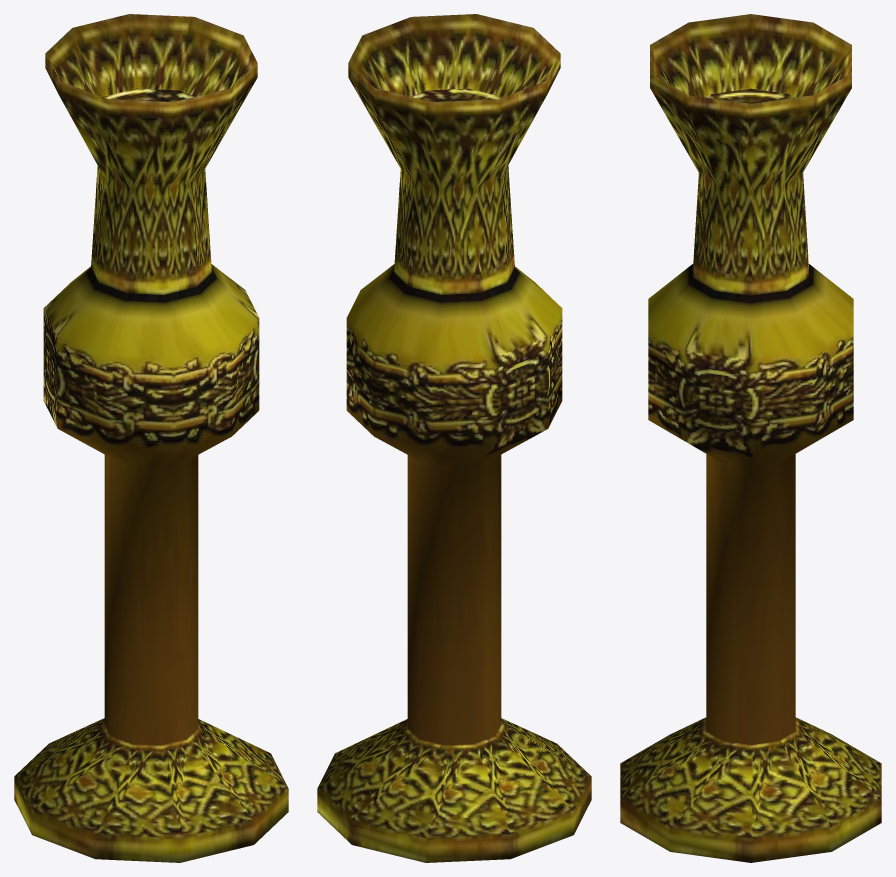
The model's file is ITMI_GOLDCANDLEHOLDER.glb.
3 views of the same model, side by side, from view 1: azimuth 30°, elevation 25°; view 2: azimuth 150°, elevation 25°; view 3: azimuth 270°, elevation 25° (orthographic).
Visible parts, largest first — view 1: Mesh; view 2: Mesh; view 3: Mesh.
Part boxes in pixels (x1,y1,x2,y2): Mesh: (14,14,288,862); Mesh: (317,14,591,862); Mesh: (620,14,881,862).
Bounding box in the file's own units: 0.1416 × 0.4236 × 0.1347.
1 material, 1 textured.
